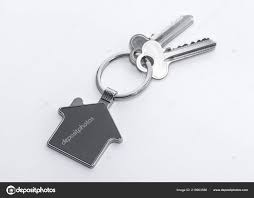key: (124, 13, 205, 68), (136, 37, 221, 84)
